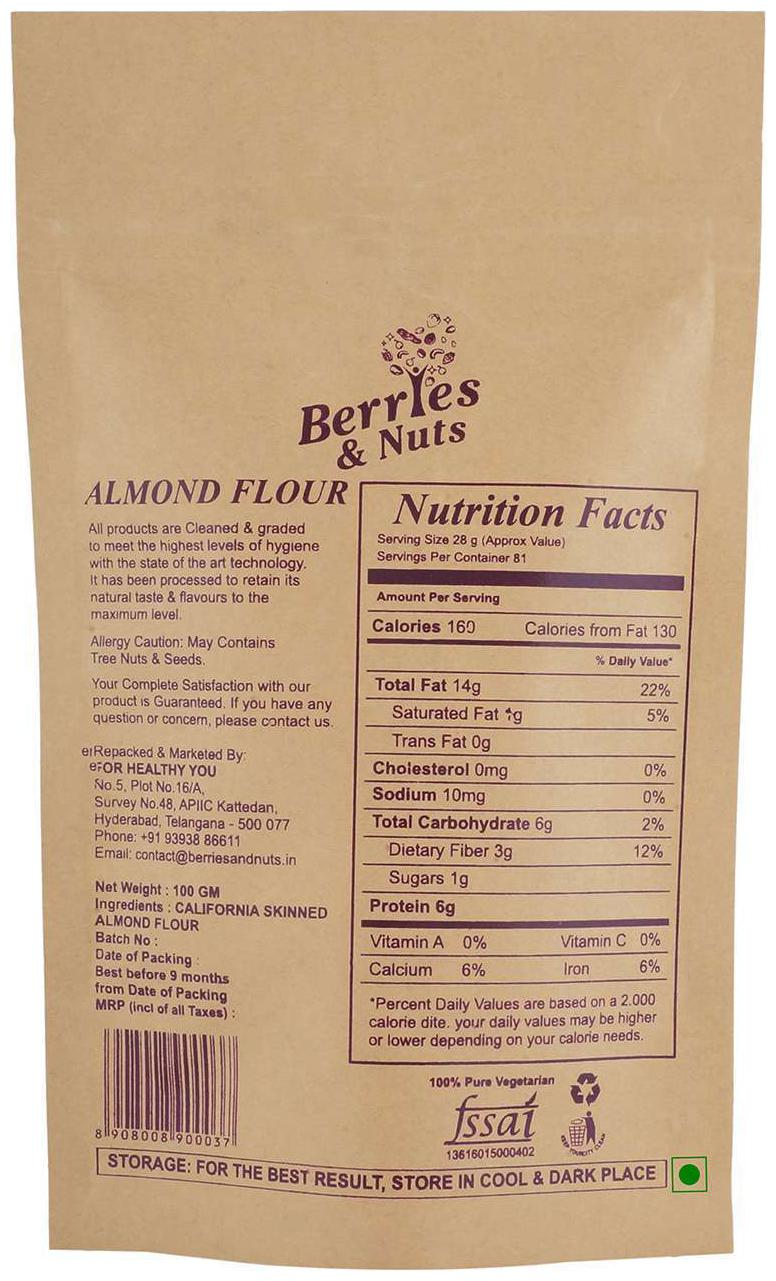fssai: (440, 1093, 538, 1143)
